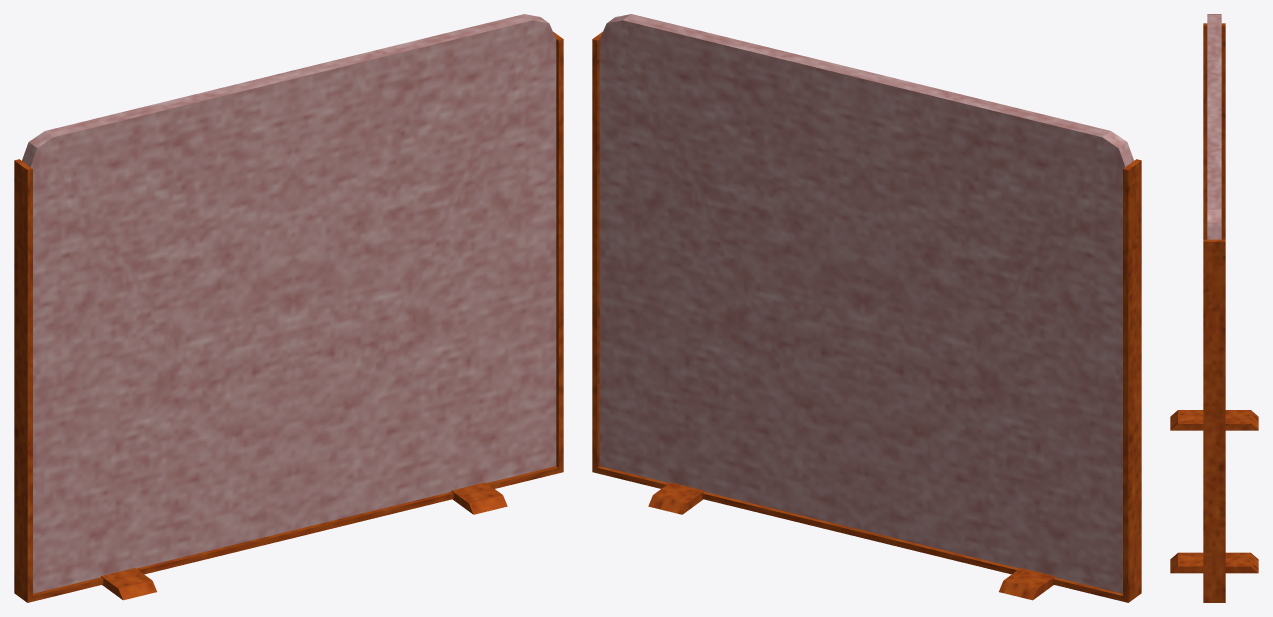
File: divider_veneer_red.obj
3 renders of one model, left to right at view 1: azimuth 30°, elevation 25°; view 2: azimuth 150°, elevation 25°; view 3: azimuth 270°, elevation 25°, orthographic. The views are drawn at different scales.
Parts seen in each view (by area): view 1: divider_veneer_red; view 2: divider_veneer_red; view 3: divider_veneer_red.
Part boxes in pixels (box(x1,y1,x2,y2)): divider_veneer_red: box(14, 14, 563, 602); divider_veneer_red: box(592, 14, 1141, 602); divider_veneer_red: box(1170, 14, 1258, 602).
Size of the model in its own units: 3.06 by 2.5 by 0.523.
